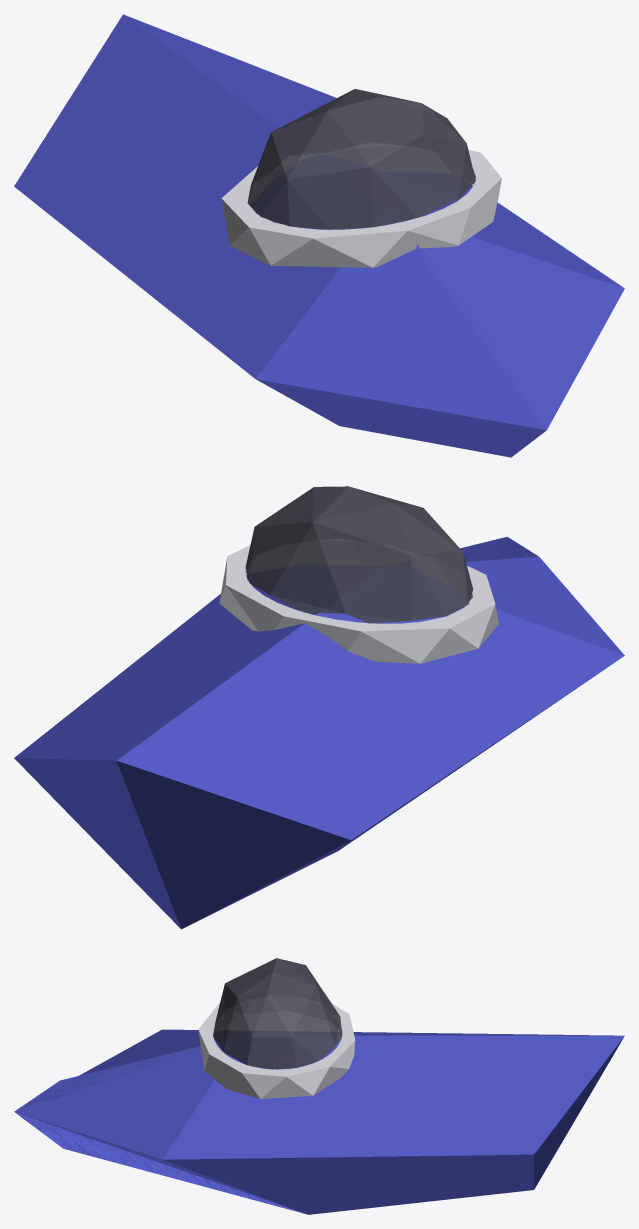
Rendered from PoliceShip.fbx.
The picture shows the model from 3 angles, top to bottom: view 1: azimuth 30°, elevation 25°; view 2: azimuth 150°, elevation 25°; view 3: azimuth 270°, elevation 25°; orthographic projection. The views are drawn at different scales.
Visible parts, largest first — view 1: Cube_008, Sphere_015; view 2: Cube_008, Sphere_015; view 3: Cube_008, Sphere_015.
Boxes of the visible parts, x1=… form: Cube_008: x1=14, y1=14, x2=624, y2=457; Sphere_015: x1=221, y1=89, x2=501, y2=267; Cube_008: x1=14, y1=536, x2=624, y2=929; Sphere_015: x1=219, y1=486, x2=498, y2=663; Cube_008: x1=14, y1=1029, x2=624, y2=1214; Sphere_015: x1=198, y1=958, x2=355, y2=1098.
Size of the model in its own units: 3.2 by 2.84 by 6.35.
